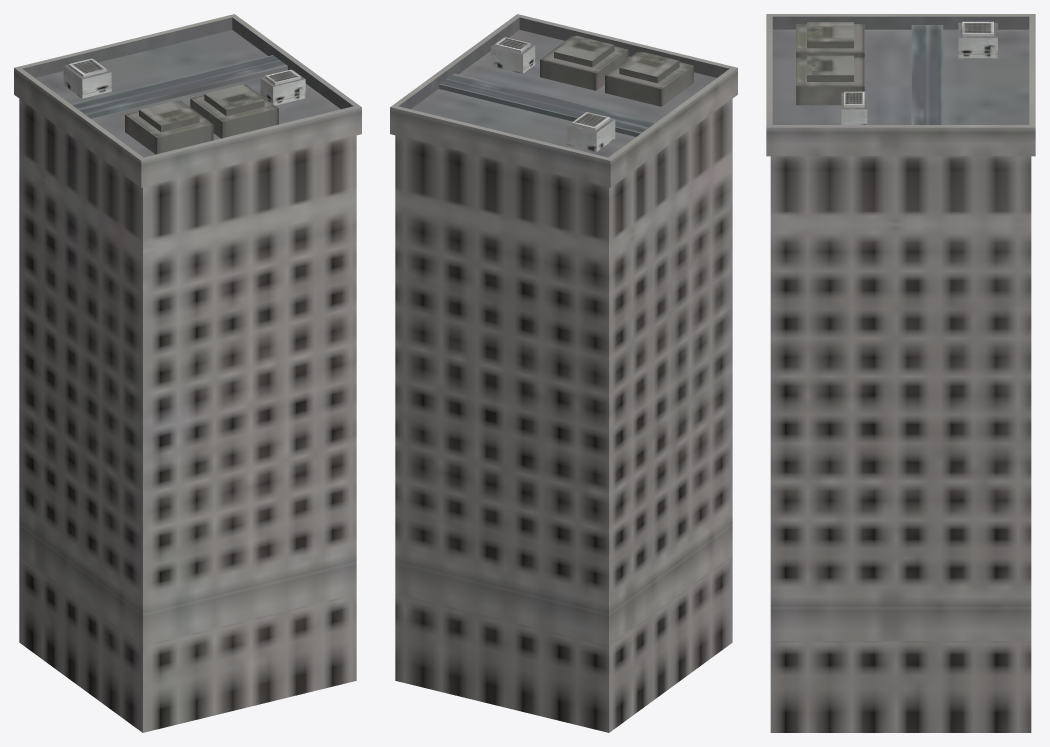
3 views of the same model, side by side, from view 1: azimuth 30°, elevation 25°; view 2: azimuth 150°, elevation 25°; view 3: azimuth 270°, elevation 25° (orthographic). The views are drawn at different scales.
Size of the model in its own units: 0.2517 by 0.639 by 0.2517.
Materials: 1 (1 with a texture image).
